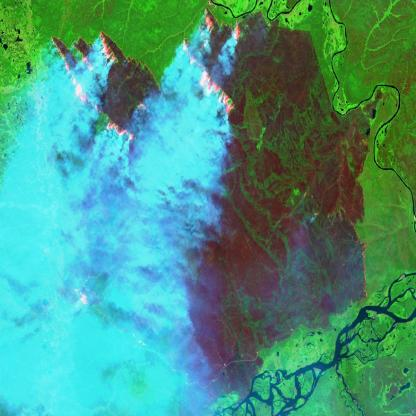fire: (47, 31, 164, 309), (179, 3, 244, 118)
